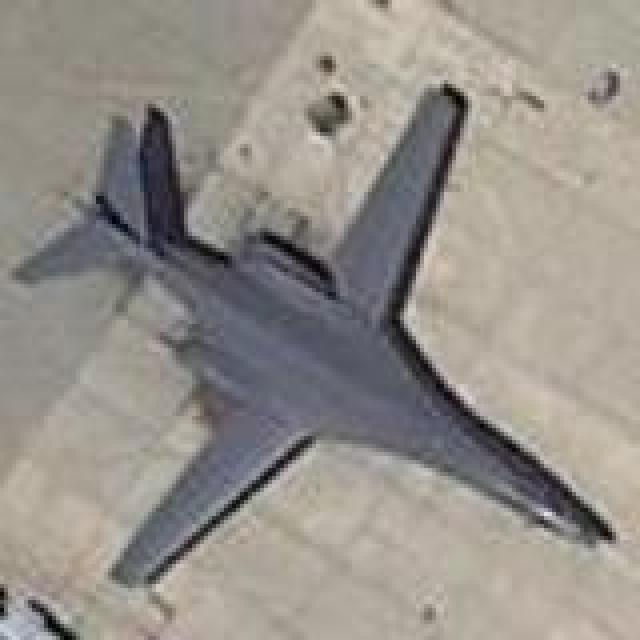B-1_TopDown: (8, 72, 620, 592)
